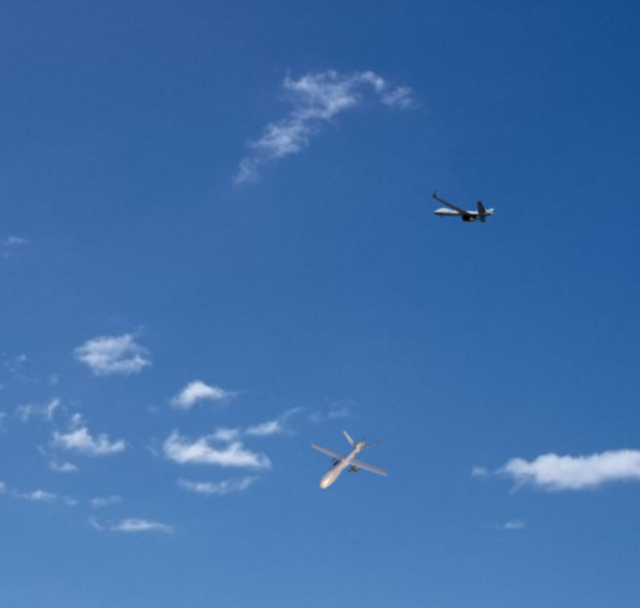military drone: (310, 430, 387, 489), (431, 188, 494, 223)
